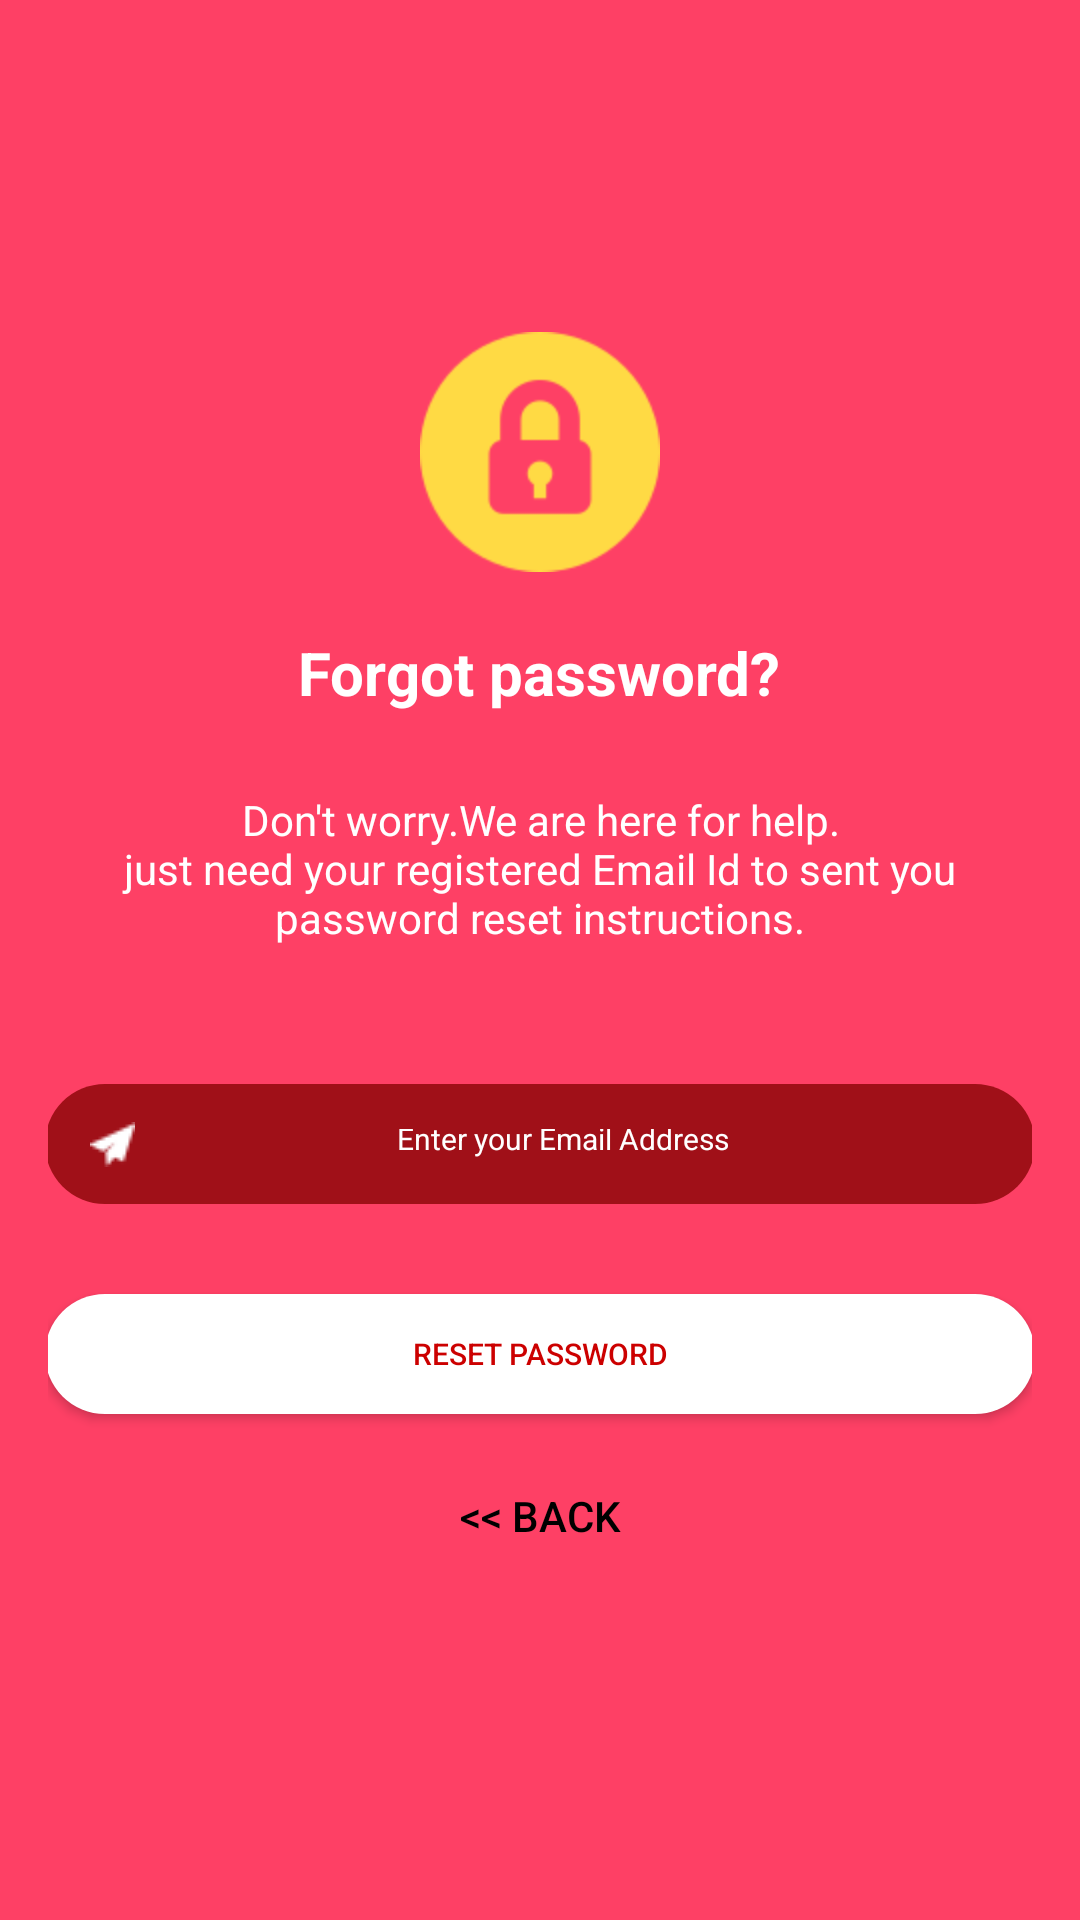

Where icons sit on this 1080 x 1920 app screen, as (x1=x1, y1=y1, x2=x2, y2=y2):
lockpadd: (x1=420, y1=332, x2=660, y2=572)
